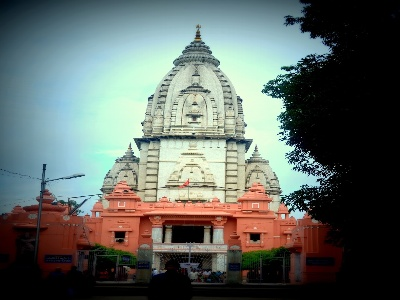amalaka: (164, 42, 230, 69)
gopuram: (128, 62, 259, 187)
